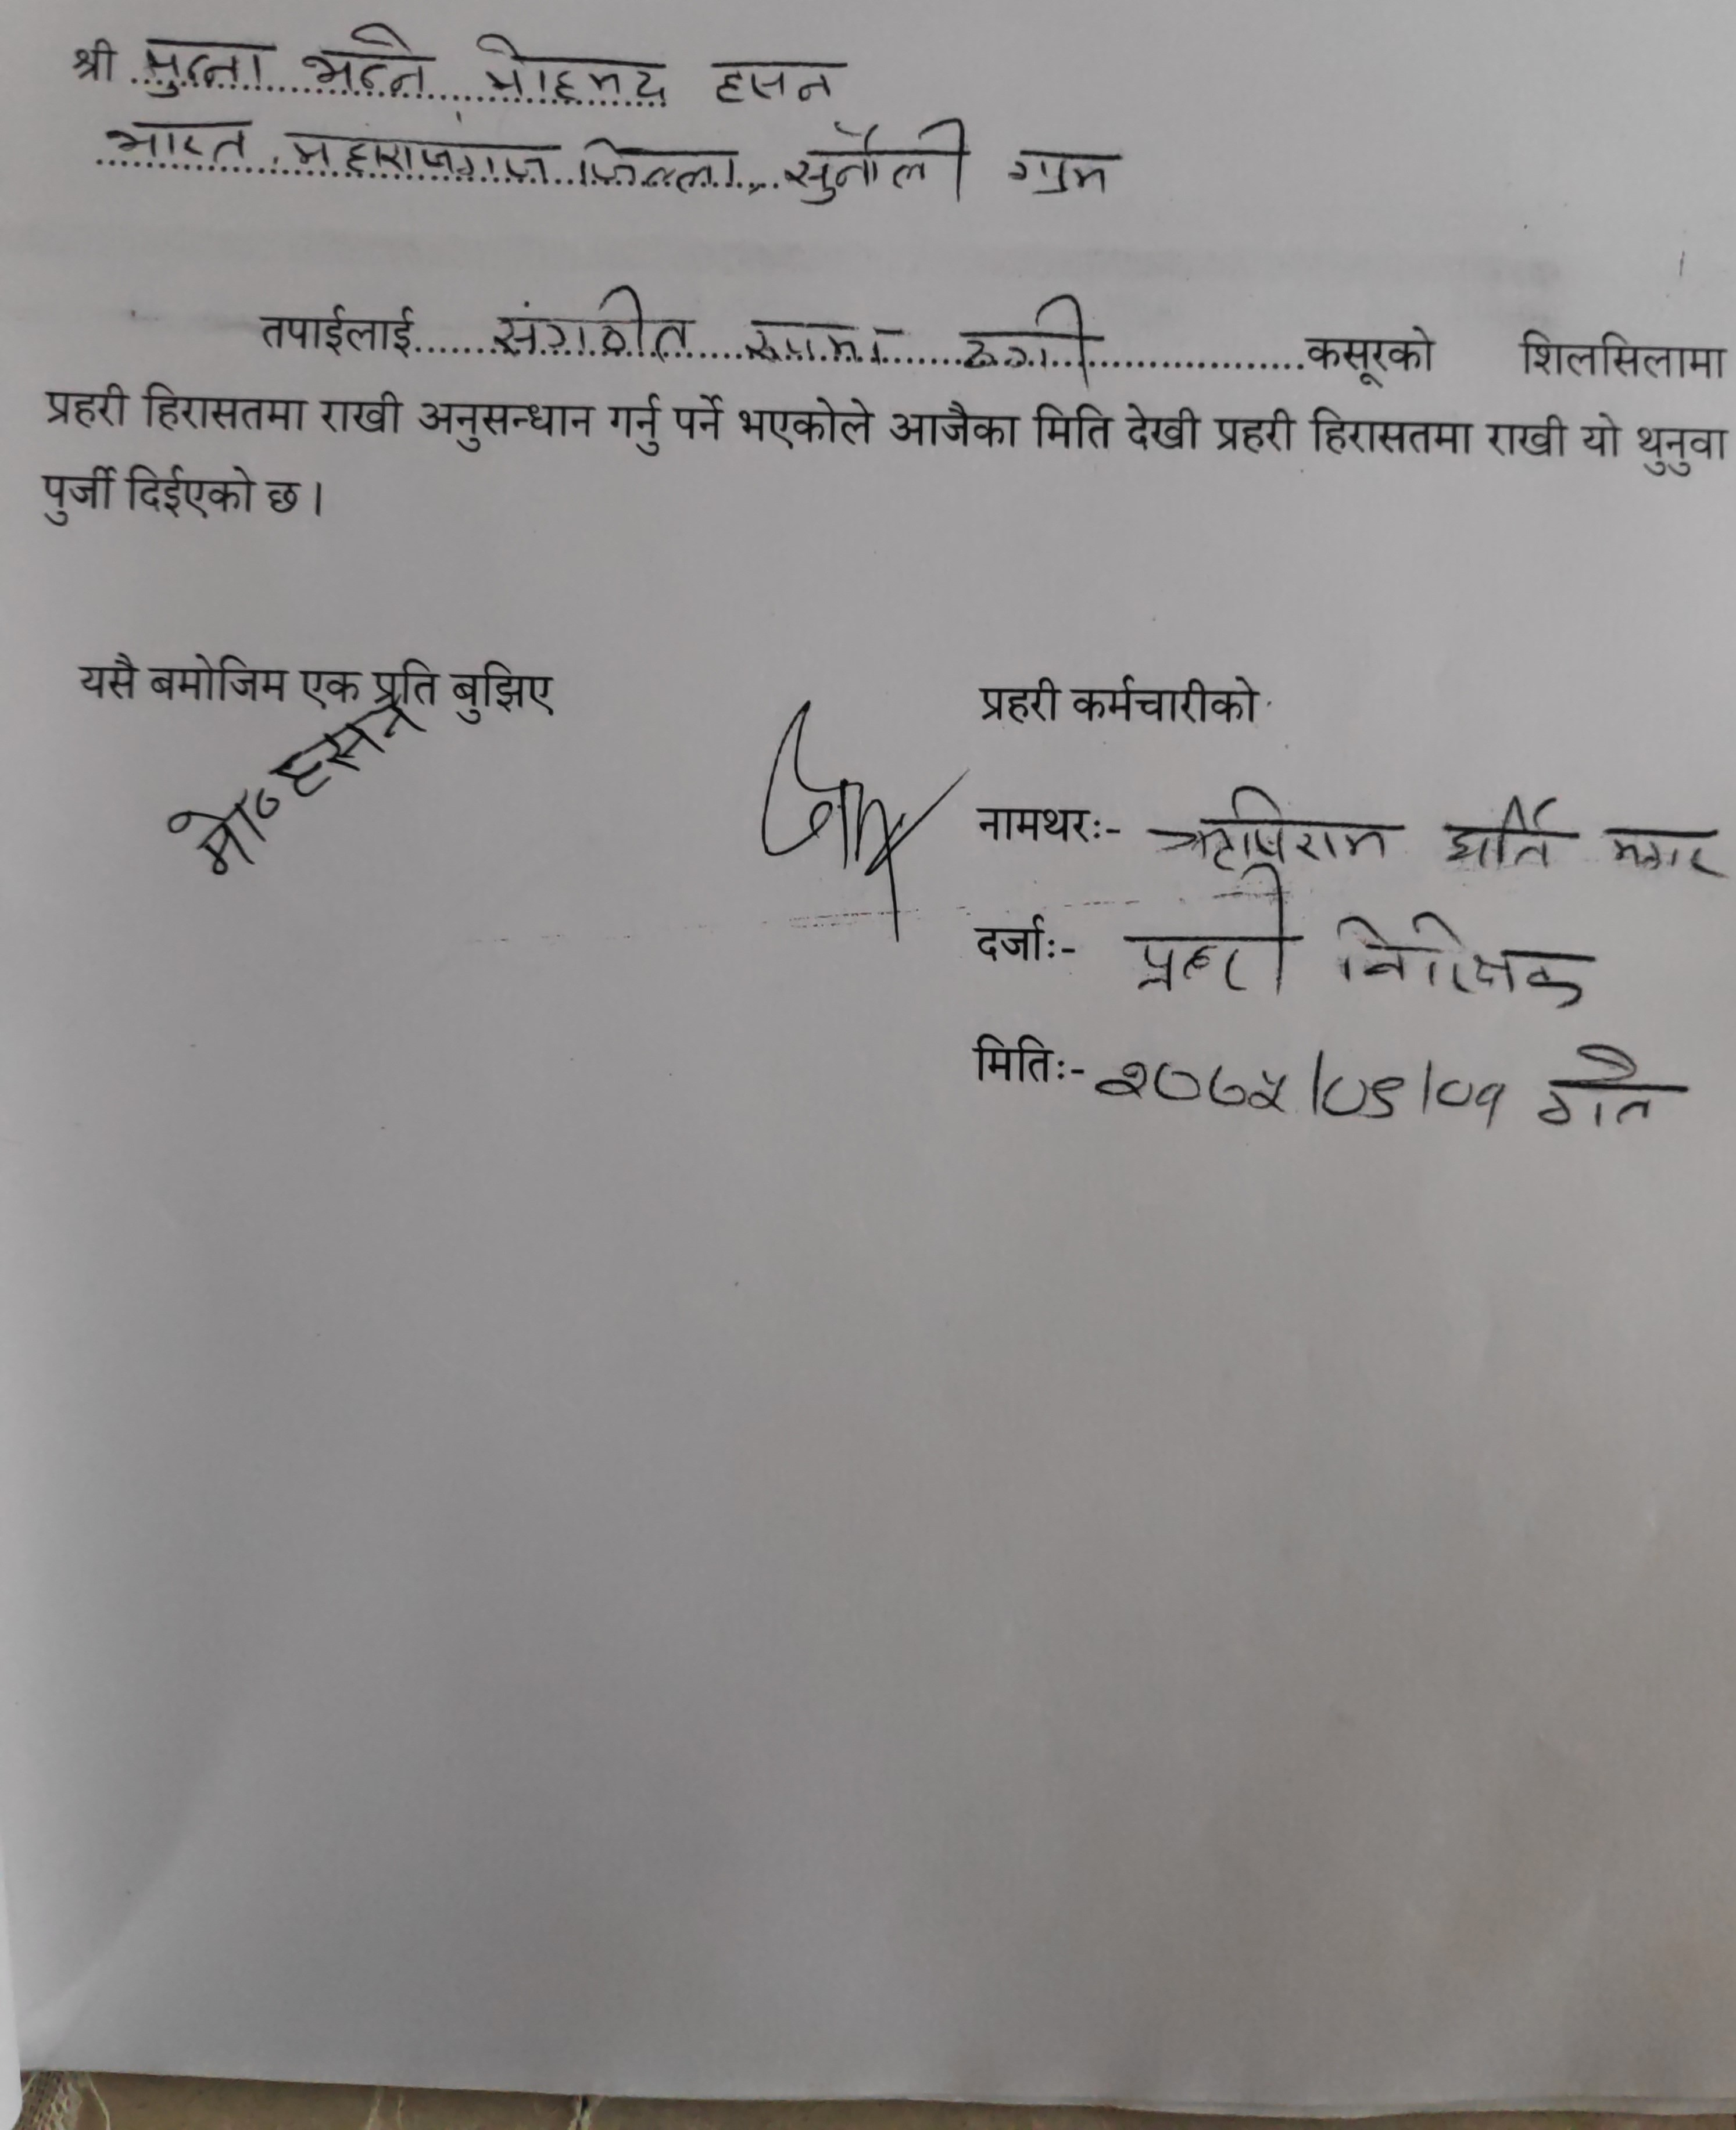text: (161, 697, 426, 883), (1094, 1054, 1517, 1130), (1331, 906, 1602, 1007), (1117, 862, 1304, 1003), (1145, 784, 1394, 869), (280, 126, 554, 193), (779, 117, 970, 209), (492, 283, 697, 364), (471, 27, 671, 110), (1538, 1040, 1686, 1134), (952, 292, 1087, 377), (296, 21, 432, 101), (1440, 791, 1570, 870), (133, 30, 273, 99), (740, 308, 888, 372), (103, 113, 257, 173), (573, 138, 738, 191), (1600, 821, 1729, 883), (706, 58, 849, 110), (1000, 145, 1122, 203)
